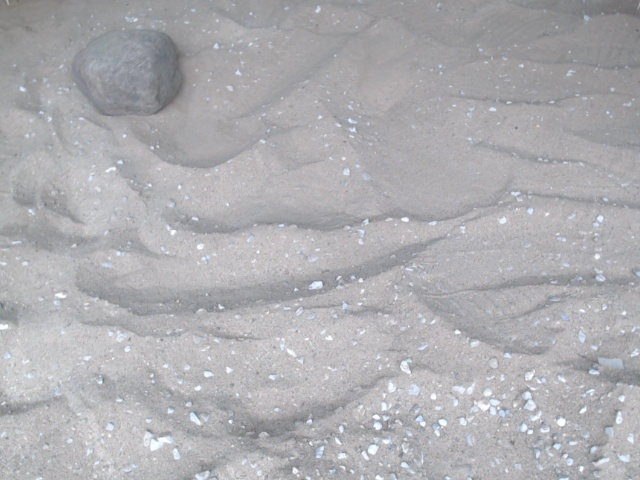rock: (63, 22, 188, 124)
